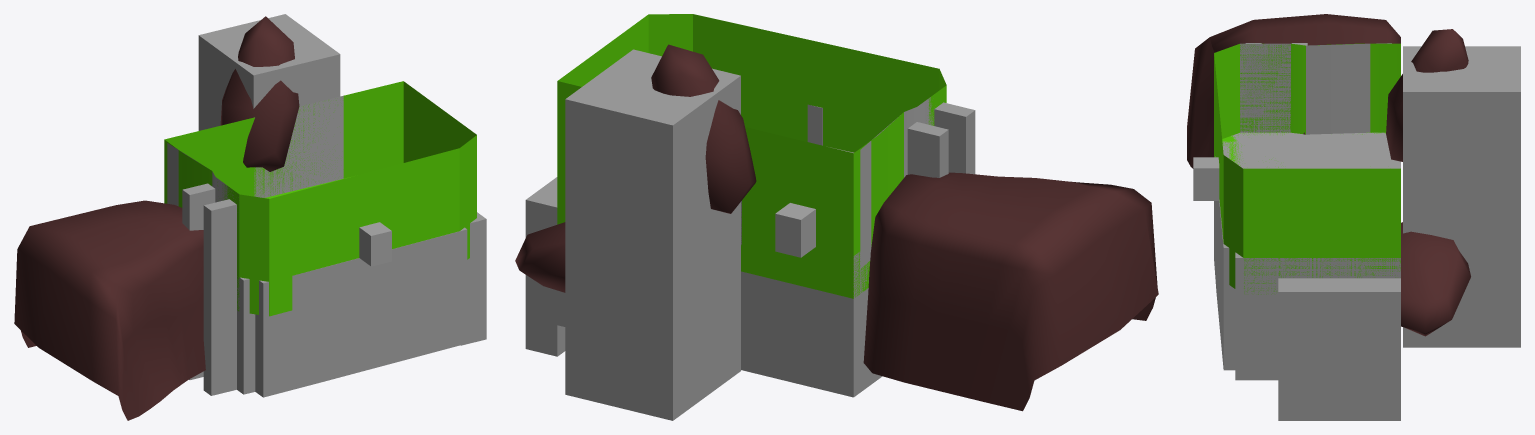
File: DressingSala_N1_A.fbx
3 views of the same model, side by side, from view 1: azimuth 30°, elevation 25°; view 2: azimuth 150°, elevation 25°; view 3: azimuth 270°, elevation 25° (orthographic). The views are drawn at different scales.
Visible parts, largest first — view 1: PlayerNoFall, Carne2, Escenario, Pared4, Carne3, Walls, Pared2, ElevadorEntrada3, Pared3, Pared1; view 2: Carne2, Pared4, PlayerNoFall, Escenario, Carne3, Pared1, Carne1, Walls, Pared2, Pared3, ElevadorSalida, ElevadorEntrada3; view 3: Pared4, PlayerNoFall, Pared1, Escenario, Walls, Carne2, Carne1, Carne3, ElevadorEntrada3, Pared2, Ground.
Boxes of the visible parts, <box> form: PlayerNoFall: <box>164,81,476,316</box>; Carne2: <box>14,200,205,420</box>; Escenario: <box>237,218,480,397</box>; Pared4: <box>198,14,340,130</box>; Carne3: <box>220,16,299,171</box>; Walls: <box>167,95,343,206</box>; Pared2: <box>203,199,236,395</box>; ElevadorEntrada3: <box>359,222,391,266</box>; Pared3: <box>182,183,215,379</box>; Pared1: <box>461,212,486,345</box>; Carne2: <box>863,172,1158,411</box>; Pared4: <box>565,49,740,420</box>; PlayerNoFall: <box>557,14,946,298</box>; Escenario: <box>557,147,882,397</box>; Carne3: <box>651,44,756,213</box>; Pared1: <box>525,177,565,356</box>; Carne1: <box>515,222,565,292</box>; Walls: <box>741,97,933,268</box>; Pared2: <box>934,102,975,174</box>; Pared3: <box>907,122,948,177</box>; ElevadorSalida: <box>775,203,815,257</box>; ElevadorEntrada3: <box>807,104,822,145</box>; Pared4: <box>1403,46,1520,347</box>; PlayerNoFall: <box>1214,43,1400,294</box>; Pared1: <box>1278,278,1400,420</box>; Escenario: <box>1214,132,1400,380</box>; Walls: <box>1240,43,1391,134</box>; Carne2: <box>1187,14,1400,168</box>; Carne1: <box>1401,222,1470,336</box>; Carne3: <box>1386,29,1468,161</box>; ElevadorEntrada3: <box>1193,157,1219,200</box>; Pared2: <box>1245,43,1261,132</box>; Ground: <box>1222,132,1385,167</box>.
Size of the model in its own units: 73.07 by 47.75 by 45.28.
